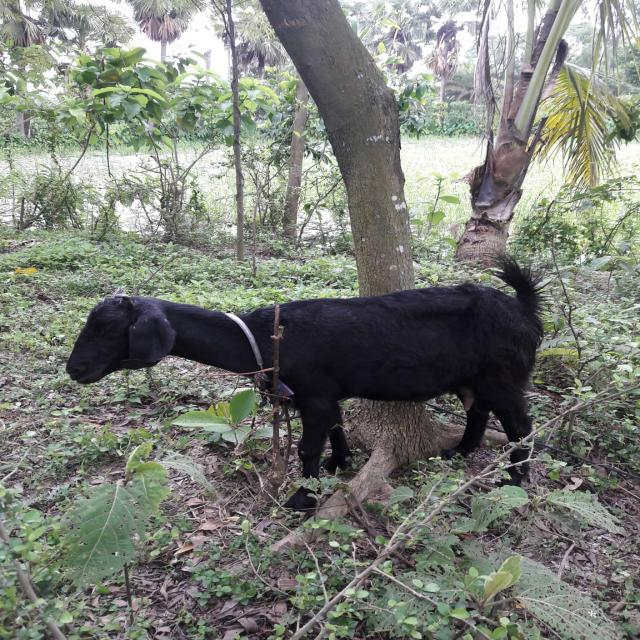Goat: (65, 251, 551, 516)
